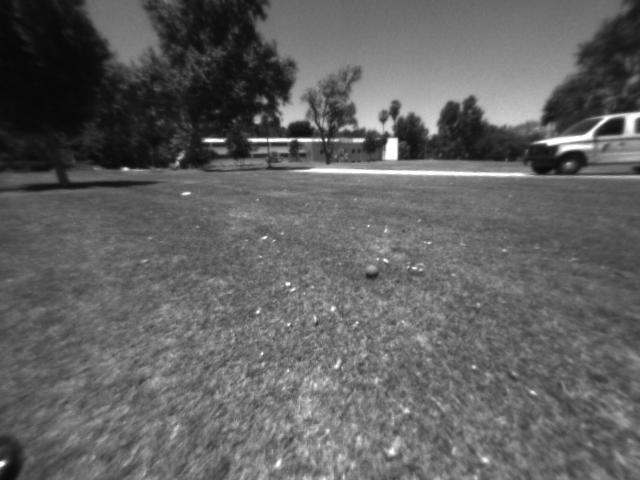dogtoy: (356, 257, 386, 283)
